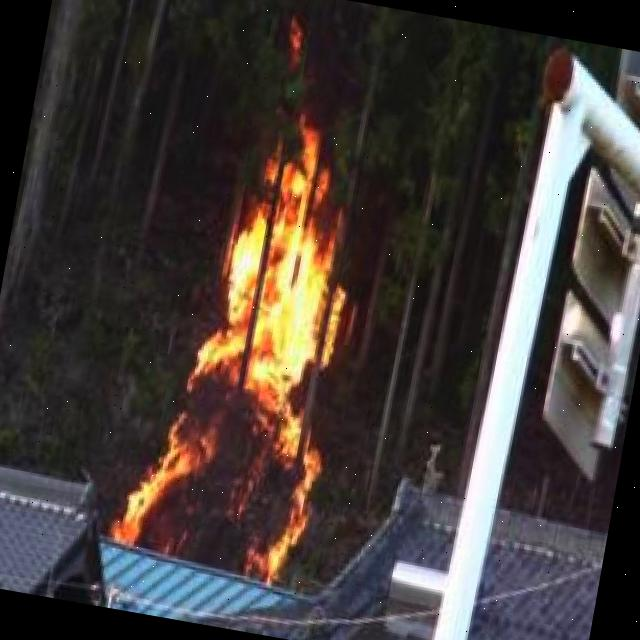fire: (108, 110, 380, 582)
